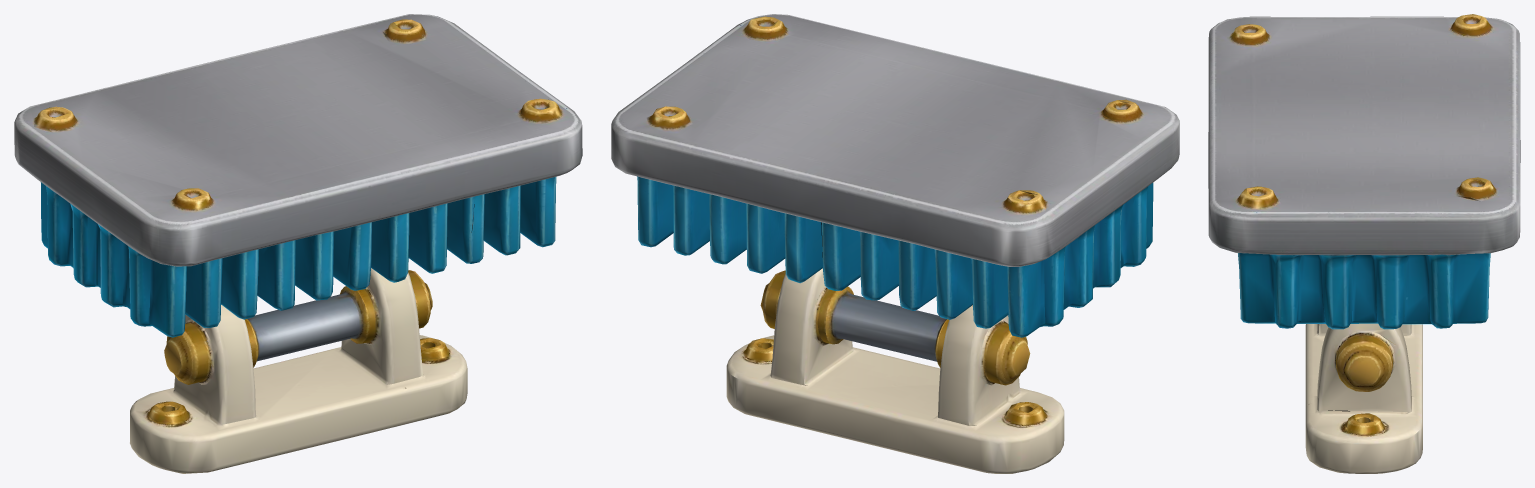
File: device-cooling-plate.glb
3 views of the same model, side by side, from view 1: azimuth 30°, elevation 25°; view 2: azimuth 150°, elevation 25°; view 3: azimuth 270°, elevation 25° (orthographic). The views are drawn at different scales.
Visible parts, largest first — view 1: web; view 2: web; view 3: web.
Boxes of the visible parts, x1=… form: web: x1=14, y1=14, x2=582, y2=473; web: x1=611, y1=14, x2=1179, y2=473; web: x1=1208, y1=14, x2=1520, y2=473.
Bounding box in the file's own units: 0.1016 × 0.07 × 0.0665.
Materials: 1 (1 with a texture image).
